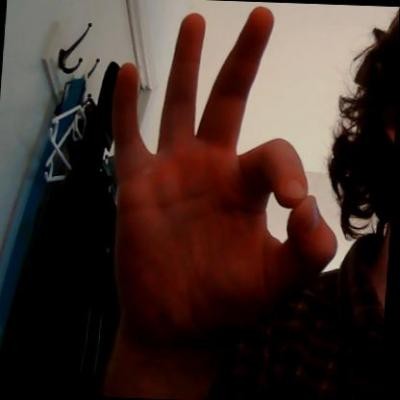hand: (105, 4, 357, 350)
